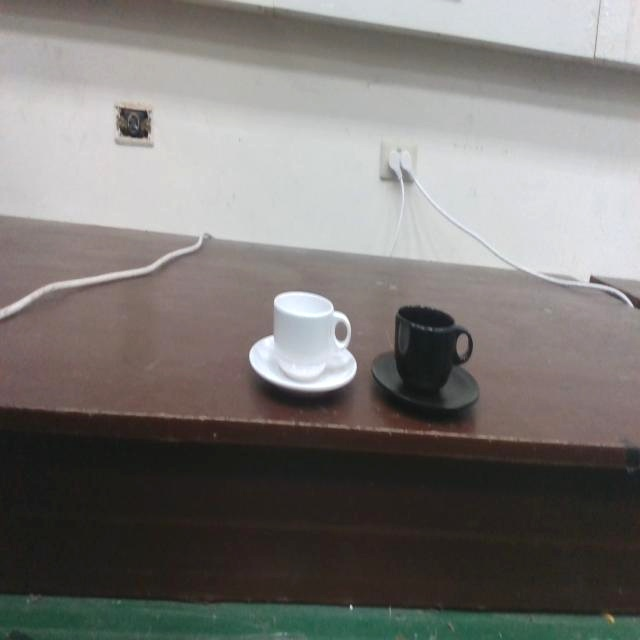black: (368, 303, 482, 420)
white: (247, 285, 359, 400)
